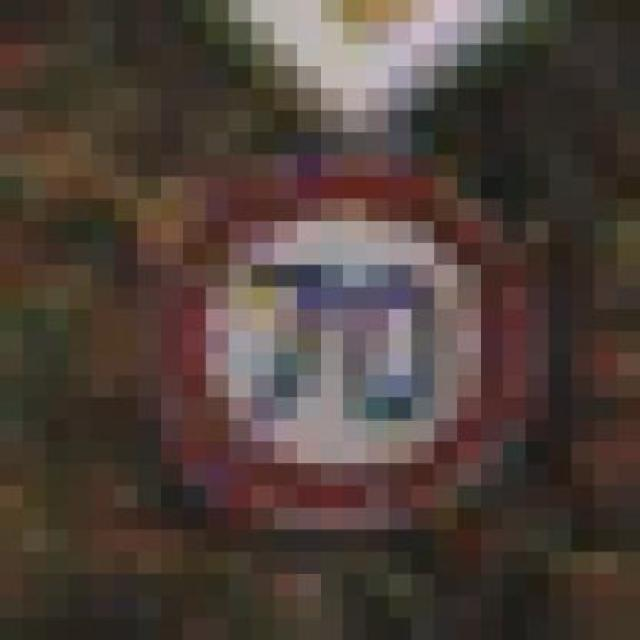forb_speed_over_70: (176, 176, 515, 513)
